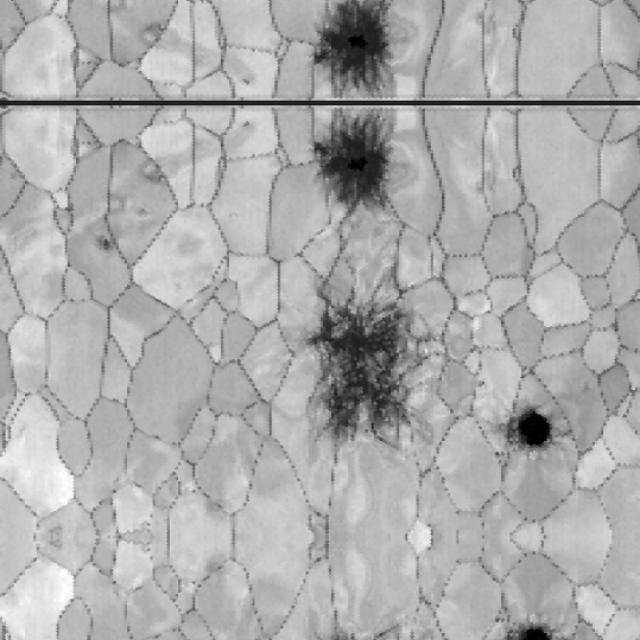good_void: (311, 274, 441, 464), (318, 107, 397, 210), (318, 0, 397, 97), (507, 400, 569, 459), (138, 150, 179, 188), (138, 16, 179, 54), (512, 614, 553, 640), (94, 231, 123, 254), (135, 202, 157, 222), (243, 120, 253, 129), (243, 75, 253, 84)
